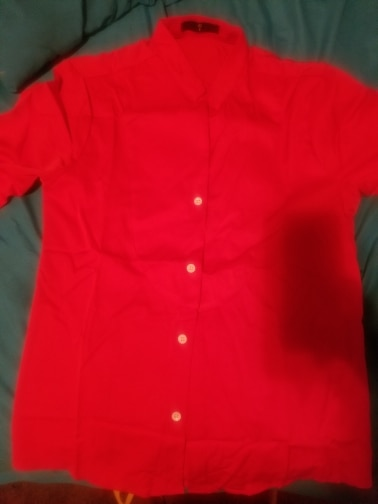shirts: (11, 18, 378, 488)
